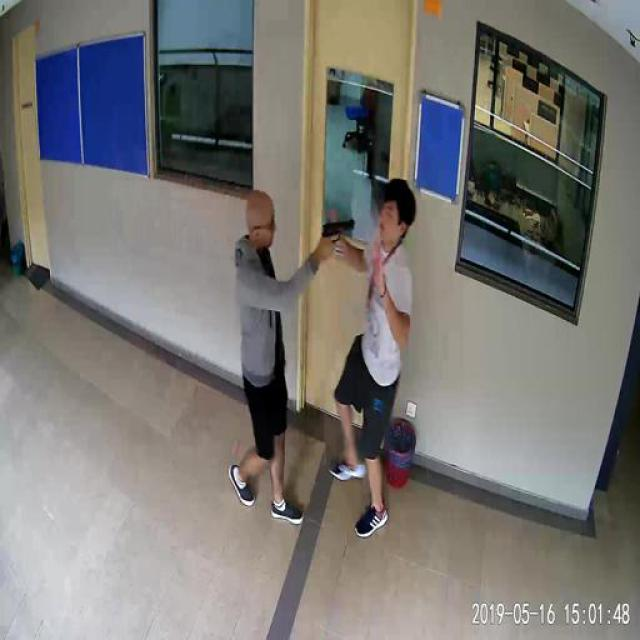Gun: (322, 218, 352, 256)
